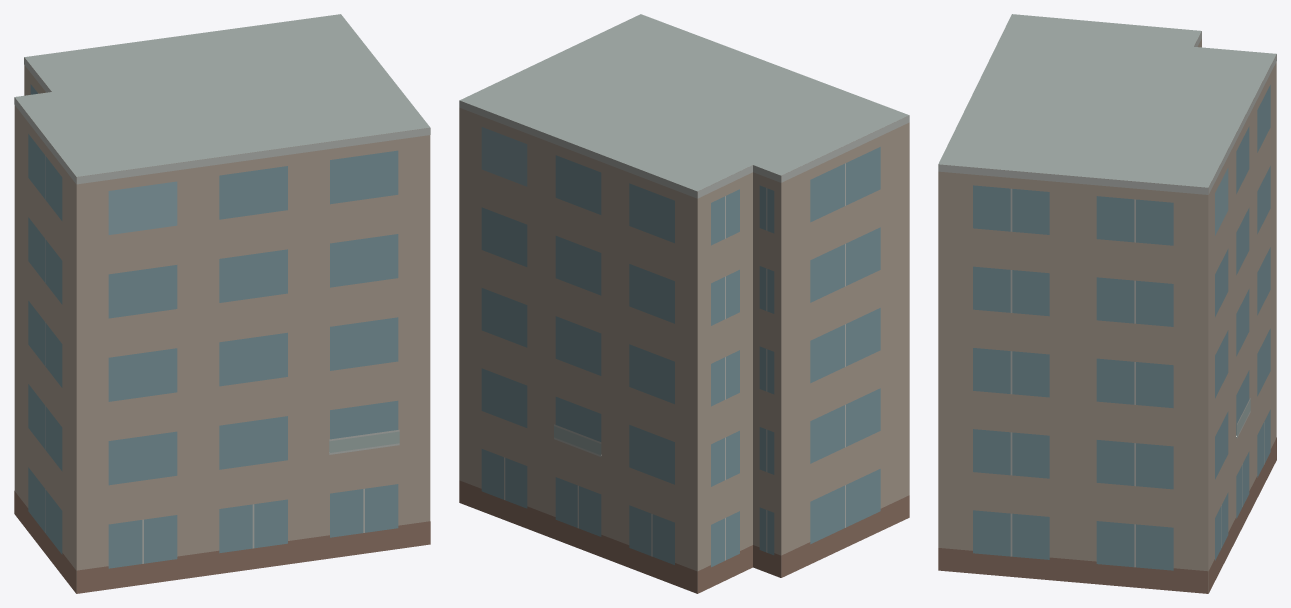
The model's file is survey-upis-32730946.glb.
3 views of the same model, side by side, from view 1: azimuth 30°, elevation 25°; view 2: azimuth 150°, elevation 25°; view 3: azimuth 270°, elevation 25° (orthographic). The views are drawn at different scales.
Parts seen in each view (by area): view 1: survey-upis-32730946.tmp; view 2: survey-upis-32730946.tmp; view 3: survey-upis-32730946.tmp.
Boxes of the visible parts, x1,y1,x2,y2 form: survey-upis-32730946.tmp: [14, 14, 430, 593]; survey-upis-32730946.tmp: [459, 14, 909, 593]; survey-upis-32730946.tmp: [938, 14, 1276, 593].
Bounding box in the file's own units: 12.51 × 13.62 × 10.3.
